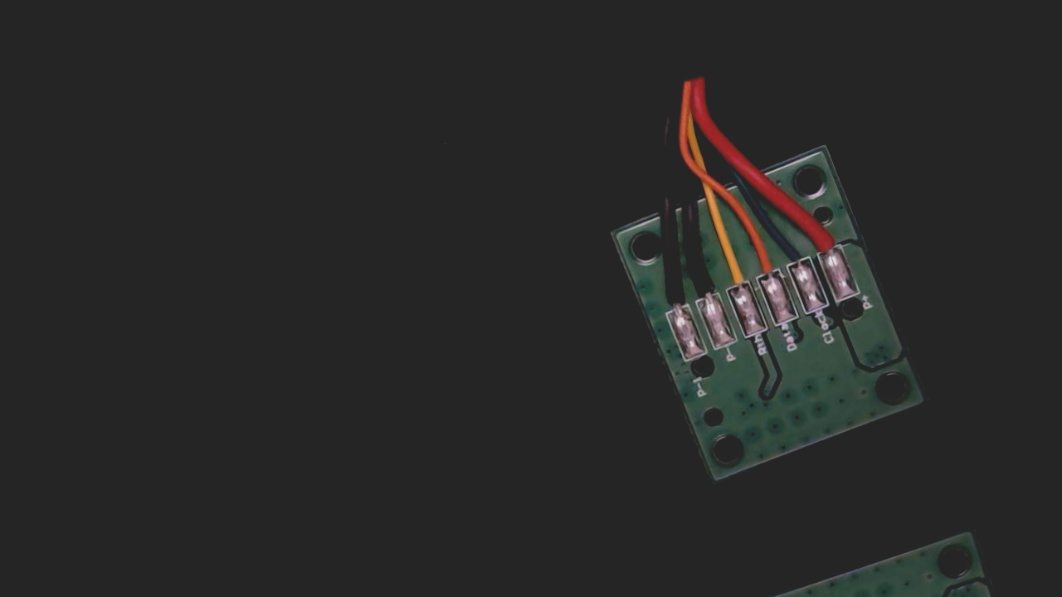Black: (681, 252, 723, 313)
Black1: (649, 266, 693, 327)
Green: (775, 226, 816, 279)
Orange: (745, 237, 786, 292)
Red: (804, 212, 845, 267)
Yellow: (715, 245, 755, 303)
